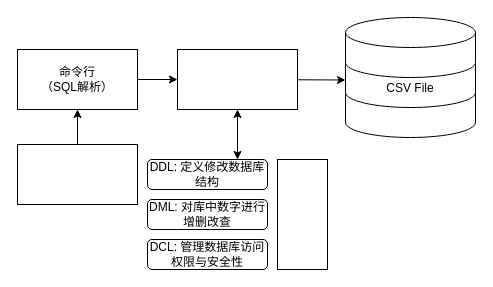
This 493x287 diagram has some shape labels left out. Here are the shapes that lost their labels. From the top down, the box of each, then its label:
(176, 48, 298, 110): DBMS Core
(16, 144, 138, 204): GUI （图形界面操作）
(276, 158, 328, 270): 文析 件与 的操 解作
